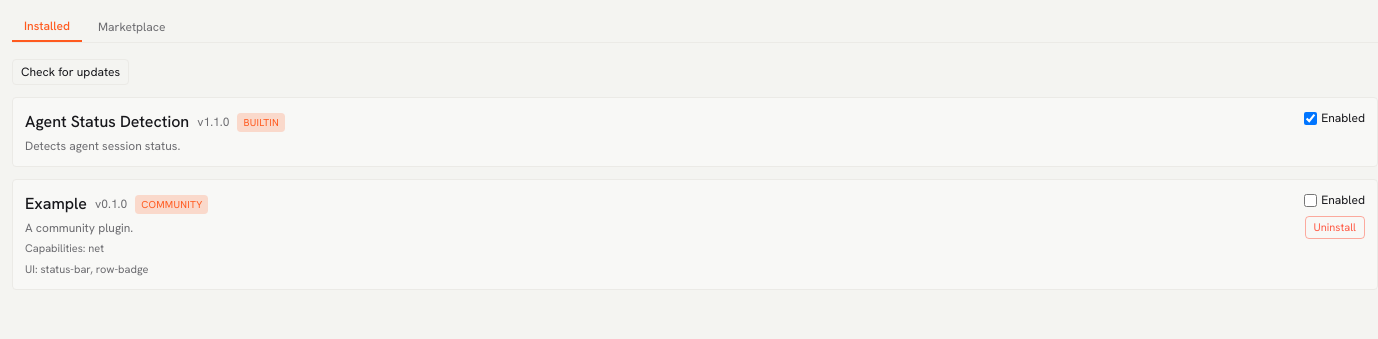
Scenario: PluginsSettings › surfaces the error message when a toggle is rejected
This screenshot has width=1378, height=339.
Click the switch named "Enable Agent Status Detection".
click(1311, 118)  # box 1304,112 -> 1317,124
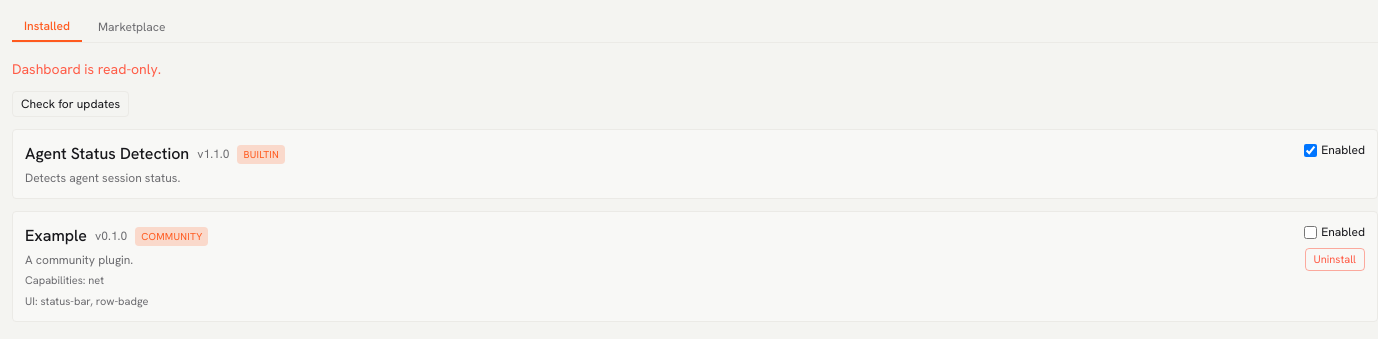
Result: the text "Dashboard is read-only." is shown at 12,60 -> 161,78
